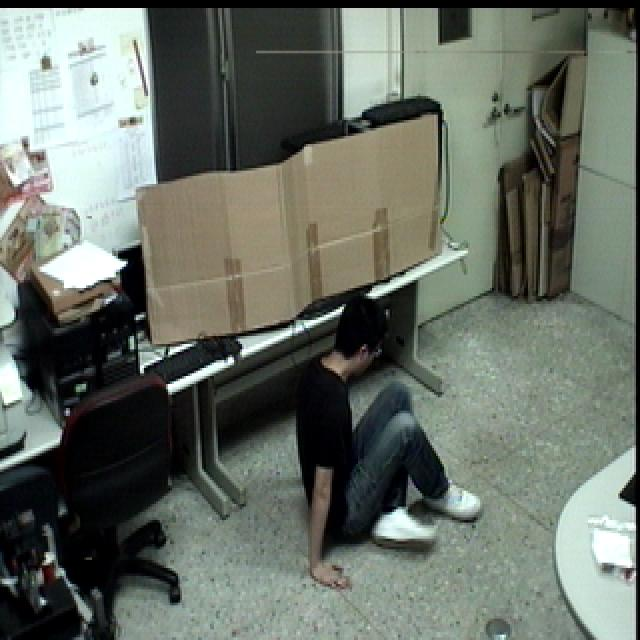sit: (287, 290, 487, 602)
